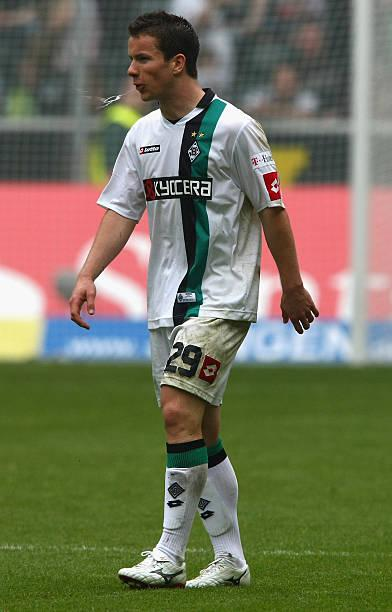Spitting: (47, 0, 231, 144)
